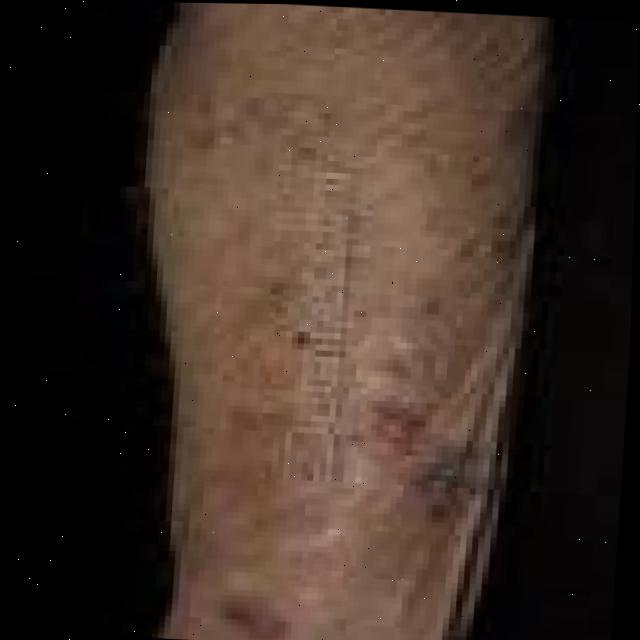Melasma: (358, 386, 479, 506), (175, 562, 276, 640)
